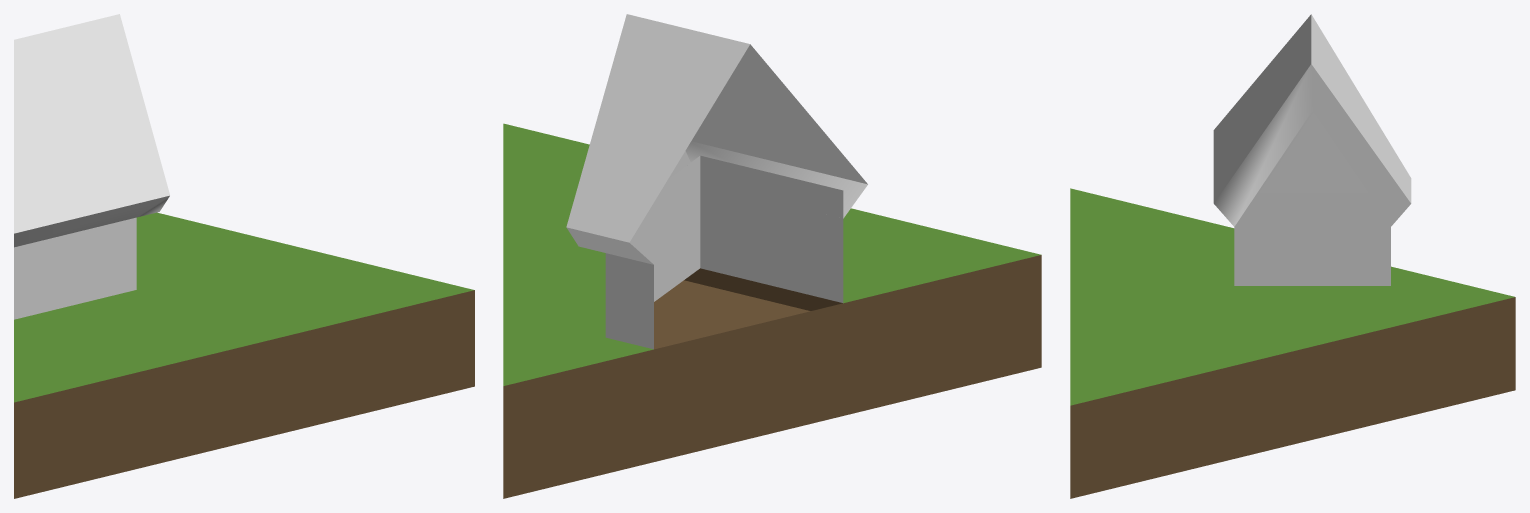
Rendered from Casa_Cantonera_D.fbx.
3 views of the same model, side by side, from view 1: azimuth 30°, elevation 25°; view 2: azimuth 150°, elevation 25°; view 3: azimuth 270°, elevation 25° (orthographic). The views are drawn at different scales.
Visible parts, largest first — view 1: Casa_Cantonera_D, Detall.002; view 2: Casa_Cantonera_D, Detall.002; view 3: Casa_Cantonera_D, Detall.002, Detall.003.
Part boxes in pixels (<box>): Casa_Cantonera_D: <box>14,14,474,498</box>; Detall.002: <box>14,217,136,319</box>; Casa_Cantonera_D: <box>503,14,1041,498</box>; Detall.002: <box>629,155,843,302</box>; Casa_Cantonera_D: <box>1070,14,1515,498</box>; Detall.002: <box>1234,193,1370,285</box>; Detall.003: <box>1257,110,1367,192</box>.
Bounding box in the file's own units: 1 × 0.7 × 0.866.
